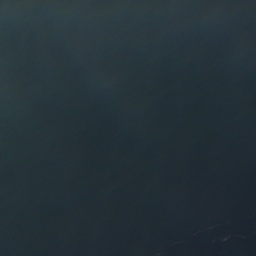Marine Debris: (221, 234, 248, 242)
